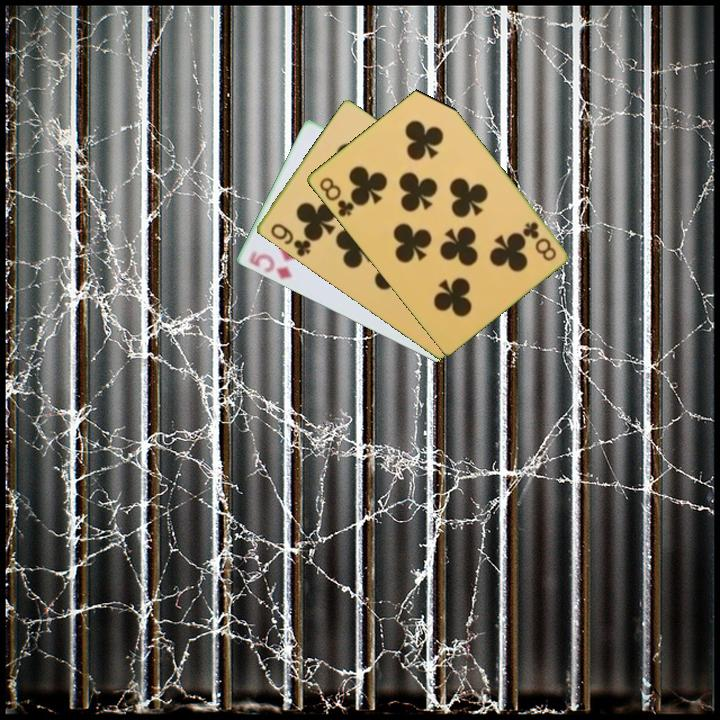5d: (245, 248, 294, 282)
8c: (315, 174, 357, 220), (519, 218, 559, 264)
9c: (266, 220, 313, 260)
